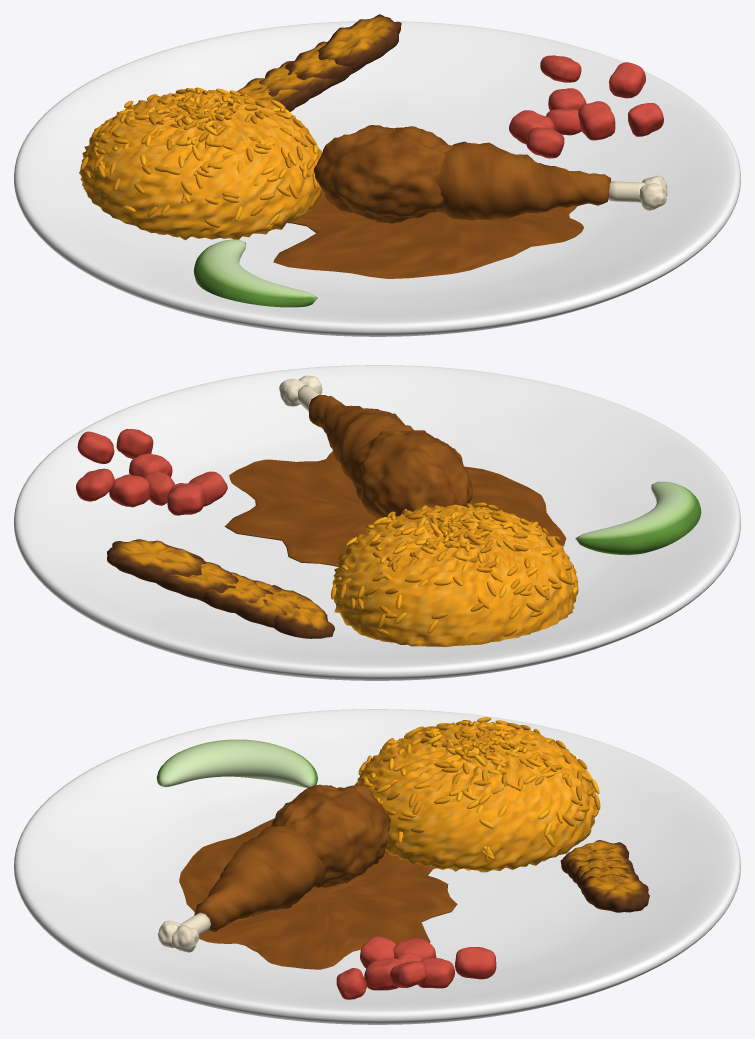
File: comida_m3.glb
The picture shows the model from 3 angles, top to bottom: view 1: azimuth 30°, elevation 25°; view 2: azimuth 150°, elevation 25°; view 3: azimuth 270°, elevation 25°; orthographic projection.
Parts seen in each view (by area): view 1: vajilla, arroz_amarillo, pollo_en_salsa, salsa, ensalada_tomate, platano_maduro, aguacate, hueso; view 2: vajilla, arroz_amarillo, salsa, pollo_en_salsa, platano_maduro, ensalada_tomate, aguacate, hueso; view 3: vajilla, arroz_amarillo, salsa, pollo_en_salsa, ensalada_tomate, aguacate, platano_maduro, hueso.
Boxes of the visible parts, x1,y1,x2,y2 form: vajilla: (14, 21, 740, 336); arroz_amarillo: (79, 87, 323, 240); pollo_en_salsa: (313, 125, 610, 223); salsa: (273, 191, 583, 278); ensalada_tomate: (509, 55, 663, 158); platano_maduro: (237, 14, 401, 111); aguacate: (193, 239, 317, 307); hueso: (608, 175, 667, 210); vajilla: (14, 365, 740, 680); arroz_amarillo: (331, 502, 578, 647); salsa: (224, 451, 566, 566); pollo_en_salsa: (309, 395, 472, 518); platano_maduro: (107, 539, 334, 638); ensalada_tomate: (76, 429, 227, 515); aguacate: (575, 481, 701, 555); hueso: (279, 375, 322, 411); vajilla: (14, 709, 740, 1024); arroz_amarillo: (355, 717, 600, 872); salsa: (179, 818, 457, 969); pollo_en_salsa: (194, 784, 390, 932); ensalada_tomate: (336, 936, 496, 999); aguacate: (156, 739, 317, 787); platano_maduro: (560, 840, 649, 912); hueso: (158, 912, 210, 952).
Bounding box in the file's own units: 1.2 × 0.2139 × 1.2.
